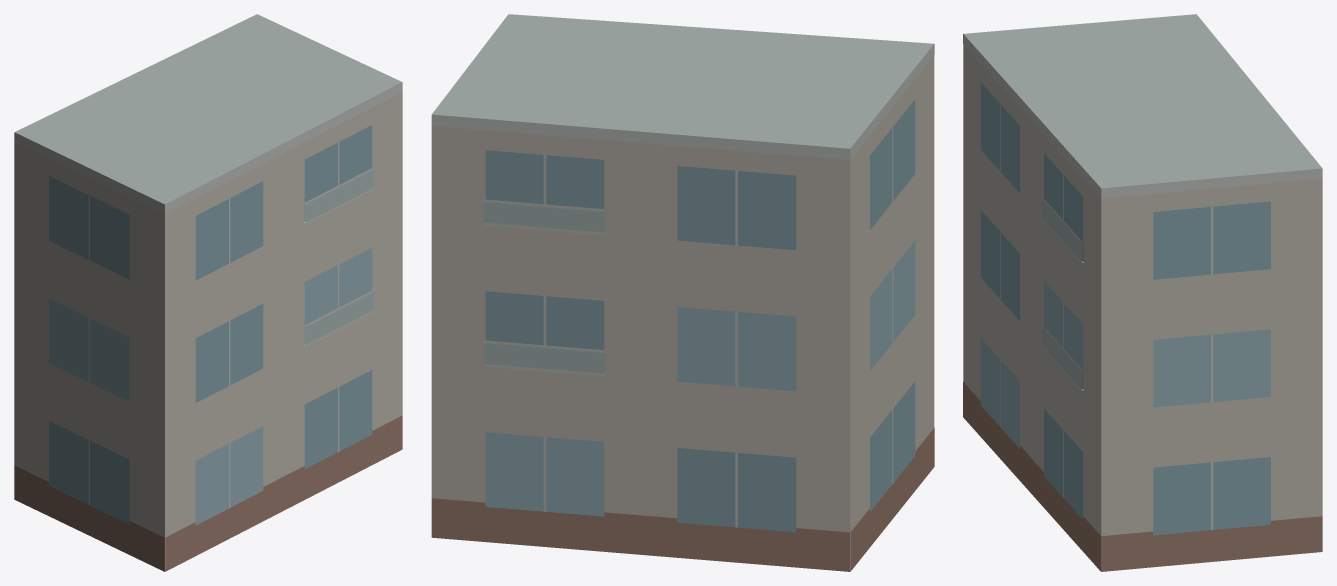
The model's file is survey-upis-33030751.glb.
The picture shows the model from 3 angles, left to right: view 1: azimuth 30°, elevation 25°; view 2: azimuth 150°, elevation 25°; view 3: azimuth 270°, elevation 25°; orthographic projection. The views are drawn at different scales.
Visible parts, largest first — view 1: survey-upis-33030751.tmp; view 2: survey-upis-33030751.tmp; view 3: survey-upis-33030751.tmp.
Part boxes in pixels (x1=…): survey-upis-33030751.tmp: x1=14, y1=14, x2=402, y2=571; survey-upis-33030751.tmp: x1=431, y1=14, x2=934, y2=571; survey-upis-33030751.tmp: x1=963, y1=14, x2=1322, y2=571.
Size of the model in its own units: 8.94 by 9.15 by 7.78.
